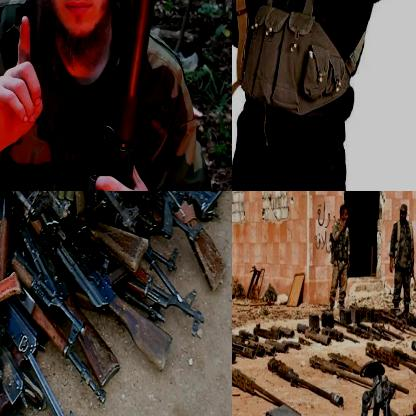rifle: (64, 0, 180, 190), (51, 228, 171, 376), (29, 228, 119, 392), (11, 288, 108, 410), (145, 191, 221, 299), (0, 191, 24, 326), (0, 289, 24, 415)
